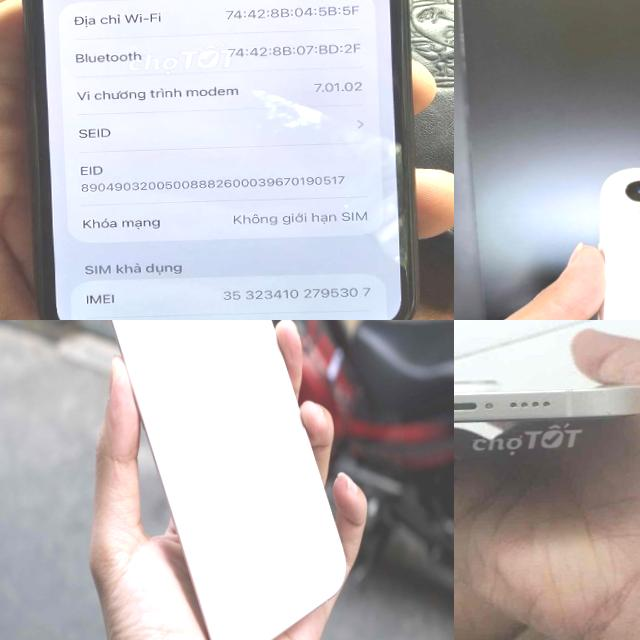scratch: (604, 404, 622, 421), (582, 384, 606, 396)
